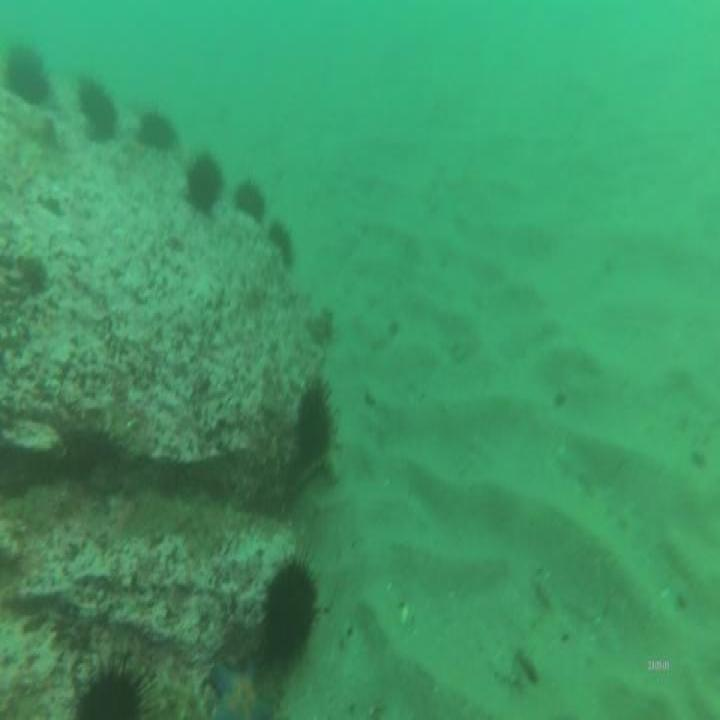echinus: (266, 564, 318, 656), (76, 670, 139, 720), (6, 44, 49, 108), (297, 388, 333, 459), (78, 75, 115, 142), (186, 148, 222, 208), (236, 178, 265, 220), (142, 110, 173, 148), (270, 221, 295, 268)
starfish: (207, 654, 270, 720)
